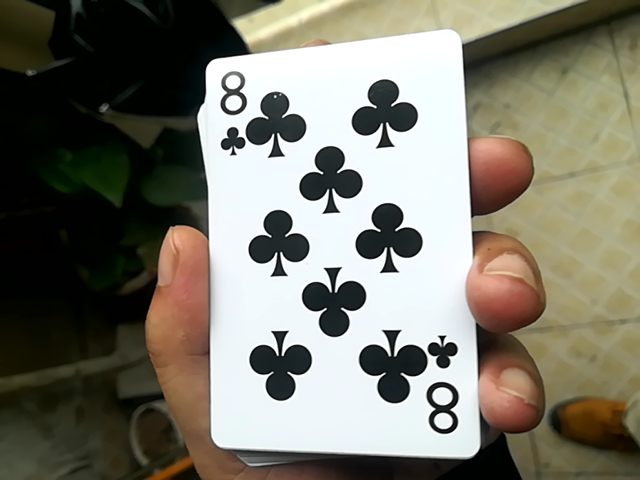mh 8: (195, 19, 471, 447)
